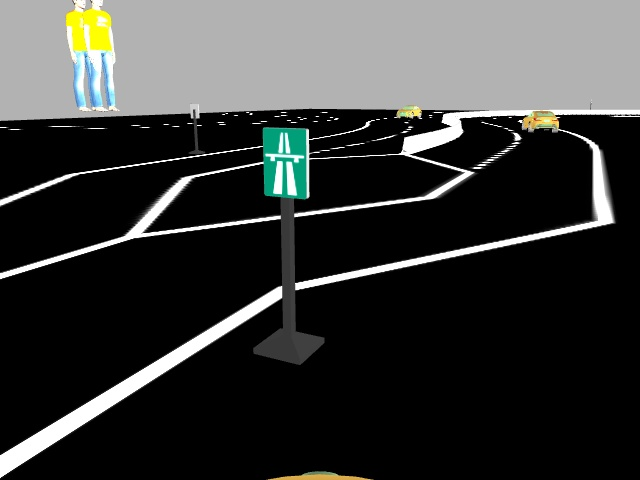HighwayEntrance: (257, 125, 311, 200)
